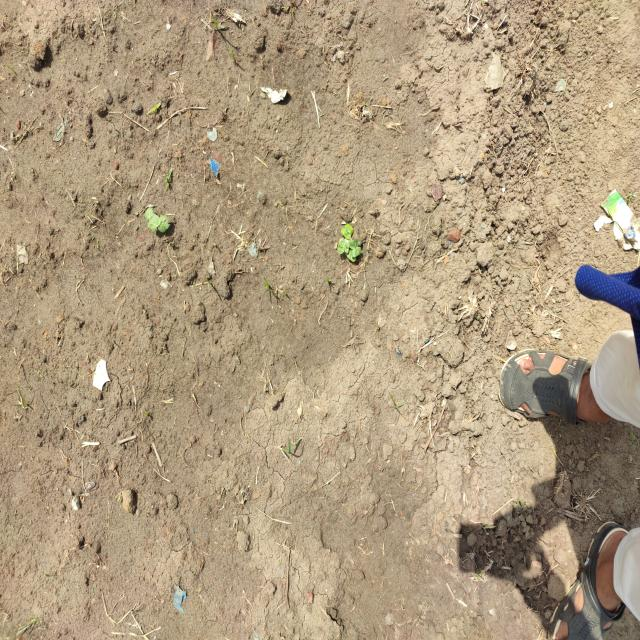seedling: (158, 218, 170, 232), (337, 238, 346, 254), (341, 227, 351, 239), (346, 250, 356, 262), (151, 214, 160, 227), (148, 220, 157, 233), (349, 239, 359, 250), (351, 247, 361, 258), (344, 224, 353, 235), (147, 208, 153, 219), (345, 238, 349, 254), (160, 214, 167, 222), (144, 211, 149, 222)
